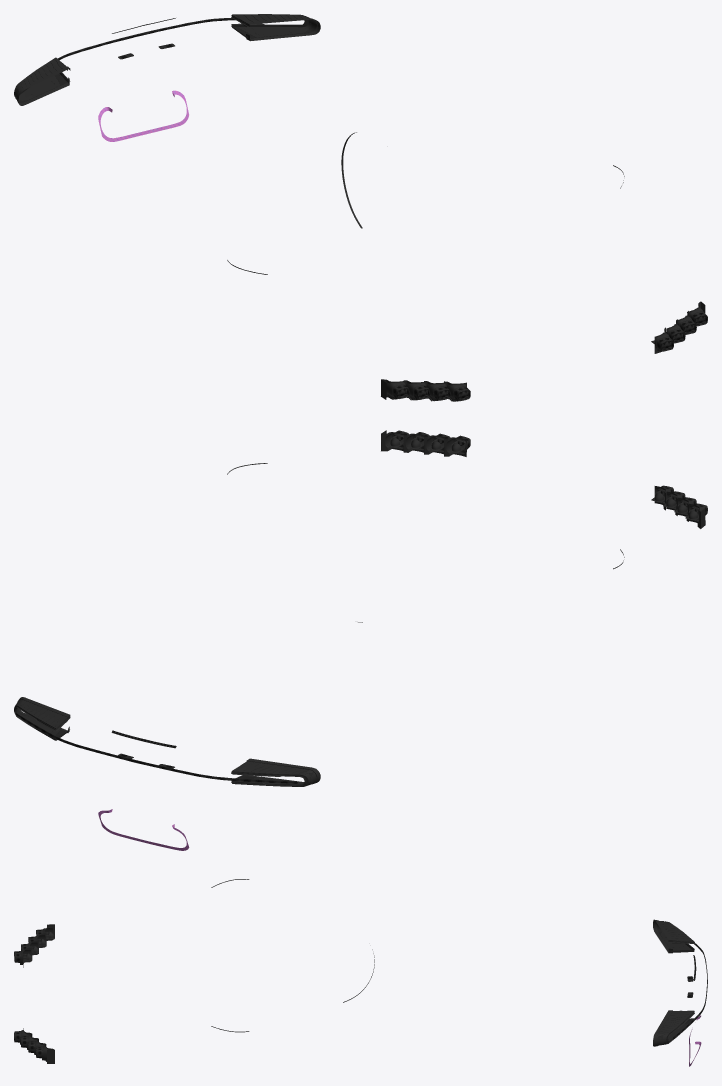
File: bugotti_chiron_pursport.fbx
3 views of the same model, one above another, from view 1: azimuth 30°, elevation 25°; view 2: azimuth 150°, elevation 25°; view 3: azimuth 270°, elevation 25° (orthographic). The views are drawn at different scales.
Visible parts, largest first — view 1: Body_Bugatti_ChironRMS_2020Li, Body_Bugatti_ChironRMS_2020Gr; view 2: Body_Bugatti_ChironRMS_2020Li; view 3: Body_Bugatti_ChironRMS_2020Li.
Part boxes in pixels (x1,y1,x2,y2): Body_Bugatti_ChironRMS_2020Li: [14, 14, 707, 401]; Body_Bugatti_ChironRMS_2020Gr: [98, 90, 188, 141]; Body_Bugatti_ChironRMS_2020Li: [14, 430, 707, 786]; Body_Bugatti_ChironRMS_2020Li: [14, 879, 707, 1063].
Bounding box in the file's own units: 218 × 100 × 419.
